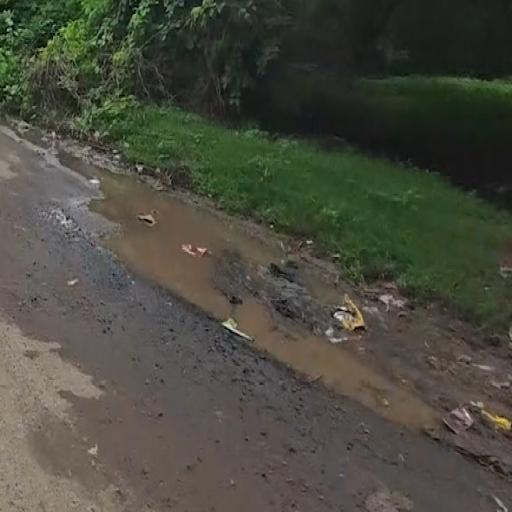edge_damage: (42, 114, 478, 441)
